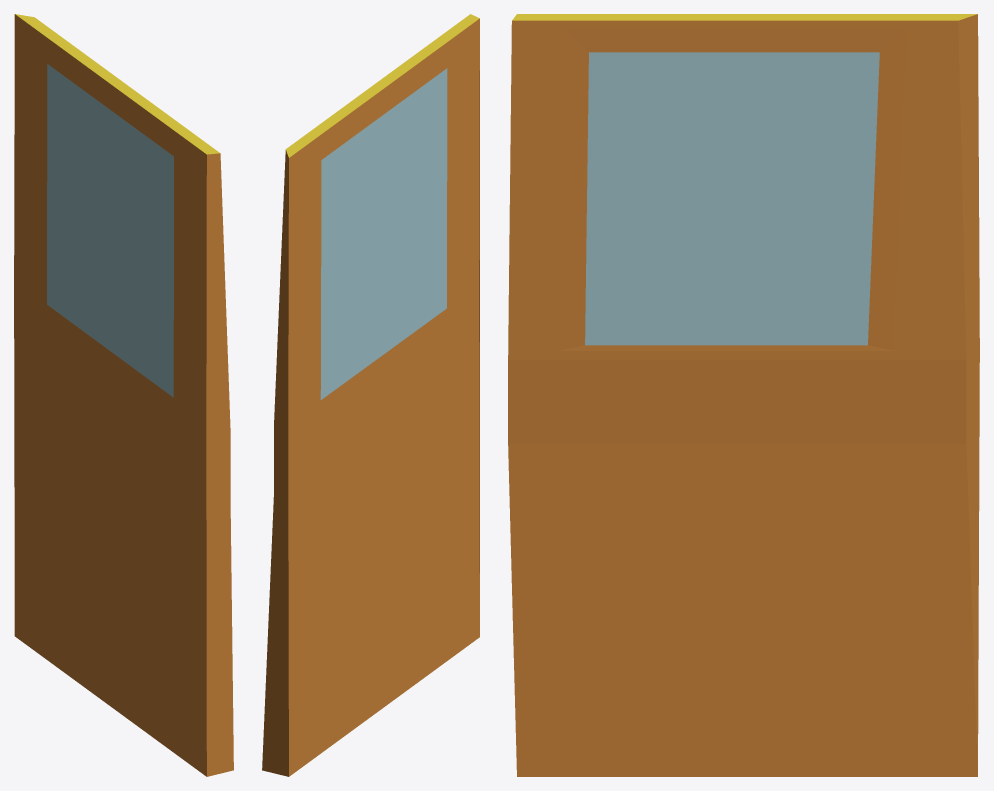
The model's file is bus_left_window_one.fbx.
The picture shows the model from 3 angles, left to right: view 1: azimuth 30°, elevation 25°; view 2: azimuth 150°, elevation 25°; view 3: azimuth 270°, elevation 25°; orthographic projection. The views are drawn at different scales.
Parts seen in each view (by area): view 1: Cube.058; view 2: Cube.058; view 3: Cube.058.
Boxes of the visible parts, <box> form: Cube.058: <box>14,14,233,776</box>; Cube.058: <box>262,14,479,776</box>; Cube.058: <box>508,14,979,776</box>.
Size of the model in its own units: 7.1 by 156 by 89.24.
